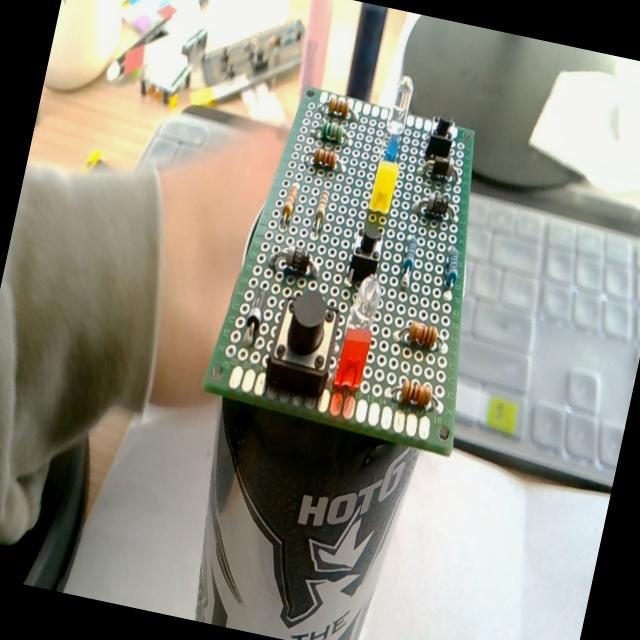diode: (267, 241, 322, 279), (241, 284, 269, 343), (418, 152, 461, 186), (425, 189, 451, 217)
led: (340, 270, 387, 344), (332, 324, 373, 389), (384, 74, 416, 142), (367, 158, 400, 220), (376, 132, 410, 164)
resistor: (393, 316, 442, 354), (302, 145, 343, 176), (397, 377, 432, 408), (440, 245, 463, 288), (311, 186, 330, 234), (278, 184, 298, 227), (401, 234, 420, 273), (326, 94, 352, 118), (320, 118, 344, 143)
switch: (262, 286, 344, 402), (346, 222, 386, 288), (423, 111, 458, 162)
